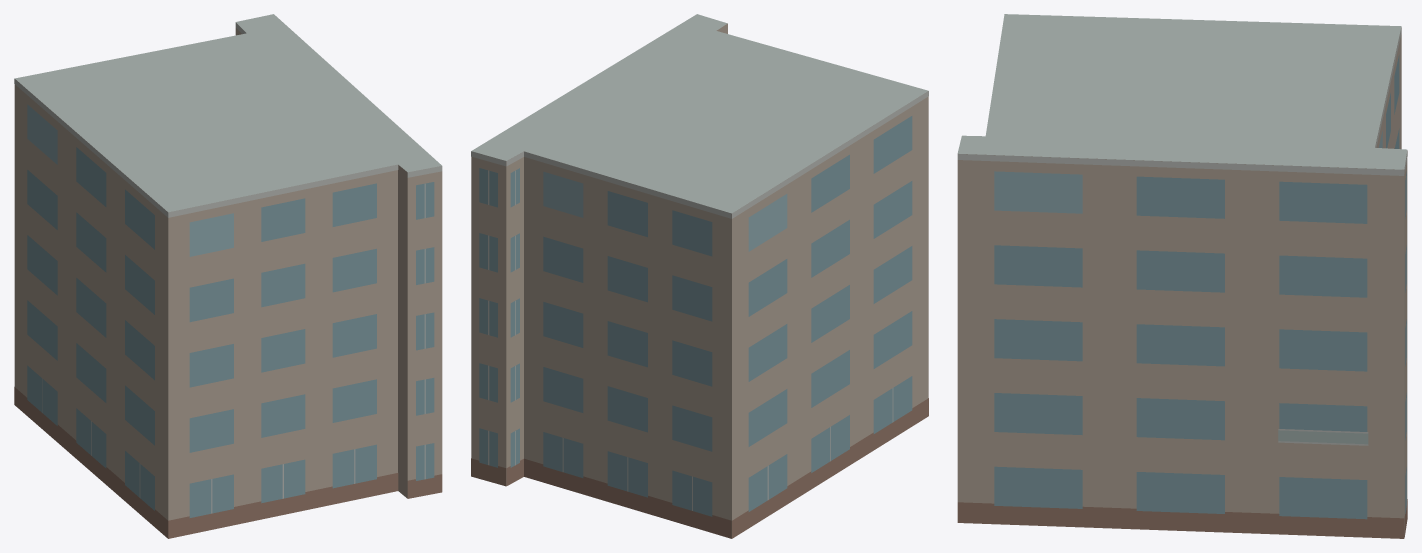
Rendered from survey-upis-32873131.glb.
The picture shows the model from 3 angles, left to right: view 1: azimuth 30°, elevation 25°; view 2: azimuth 150°, elevation 25°; view 3: azimuth 270°, elevation 25°; orthographic projection. The views are drawn at different scales.
Visible parts, largest first — view 1: survey-upis-32873131.tmp; view 2: survey-upis-32873131.tmp; view 3: survey-upis-32873131.tmp.
Part boxes in pixels (x1,y1,x2,y2): survey-upis-32873131.tmp: (14,14,442,538); survey-upis-32873131.tmp: (471,14,928,538); survey-upis-32873131.tmp: (957,14,1407,538).
Size of the model in its own units: 13.14 by 14.5 by 16.03.
